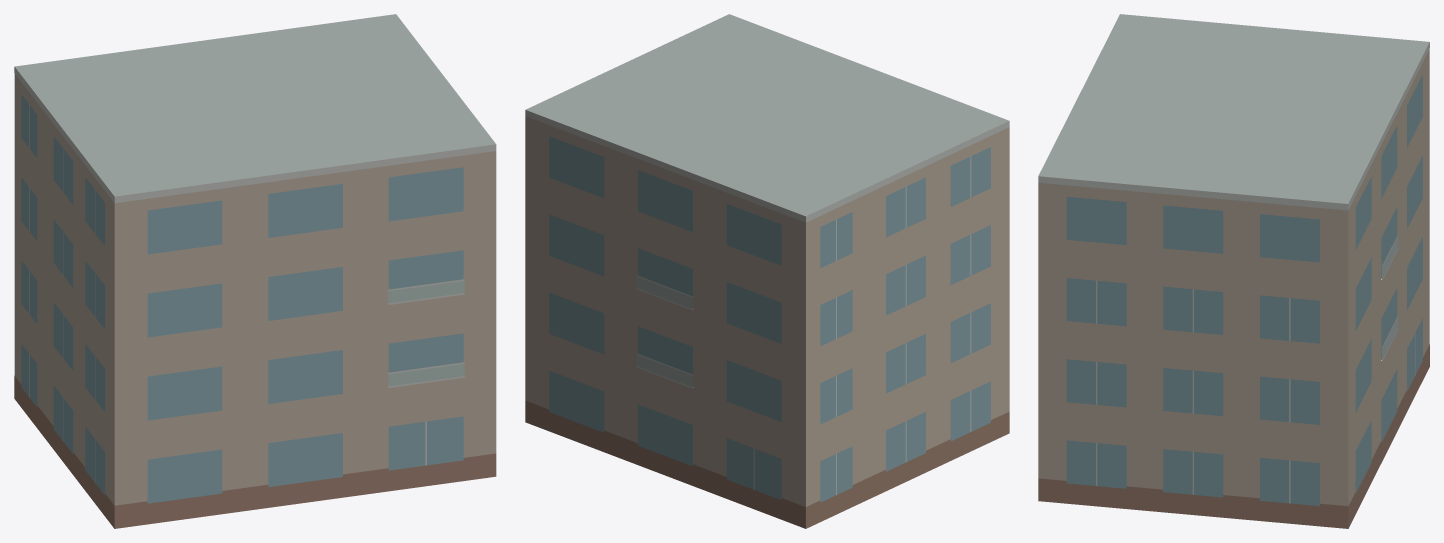
File: residential-1a4f0a71-8152-4bf4-bc1e-d1265bc8d73a.glb
The picture shows the model from 3 angles, left to right: view 1: azimuth 30°, elevation 25°; view 2: azimuth 150°, elevation 25°; view 3: azimuth 270°, elevation 25°; orthographic projection. The views are drawn at different scales.
Visible parts, largest first — view 1: residential-1a4f0a71-8152-4bf4-bc1e-d1265bc8d73a.tmp; view 2: residential-1a4f0a71-8152-4bf4-bc1e-d1265bc8d73a.tmp; view 3: residential-1a4f0a71-8152-4bf4-bc1e-d1265bc8d73a.tmp.
Boxes of the visible parts, box(x1,y1,x2,y2) form: residential-1a4f0a71-8152-4bf4-bc1e-d1265bc8d73a.tmp: box(14, 14, 496, 528); residential-1a4f0a71-8152-4bf4-bc1e-d1265bc8d73a.tmp: box(525, 14, 1009, 528); residential-1a4f0a71-8152-4bf4-bc1e-d1265bc8d73a.tmp: box(1038, 14, 1429, 528).
Bounding box in the file's own units: 15.31 × 12.2 × 13.34.
